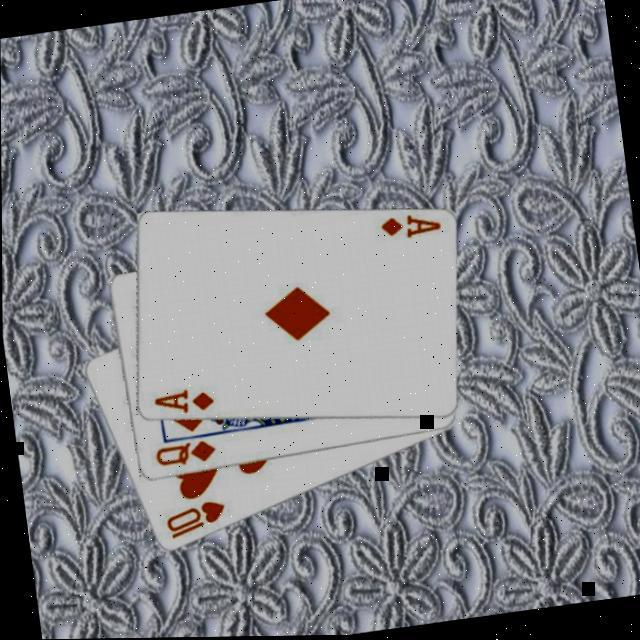10H: (158, 497, 228, 545)
AD: (375, 209, 442, 248), (148, 385, 215, 422)
QD: (148, 437, 217, 474)
